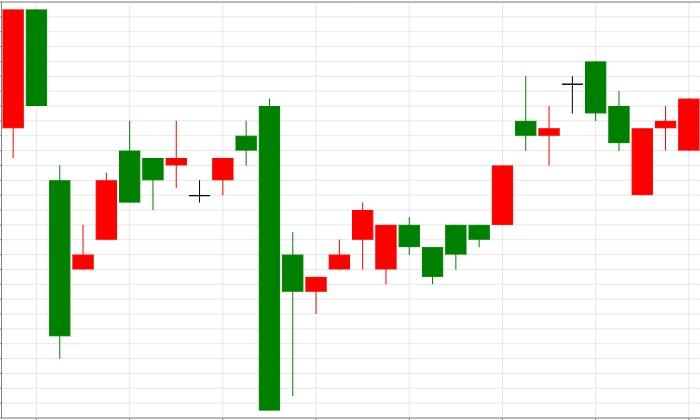shooting_star_fall: (422, 76, 536, 284)
three_white_soldiers_rise: (258, 98, 374, 411)
